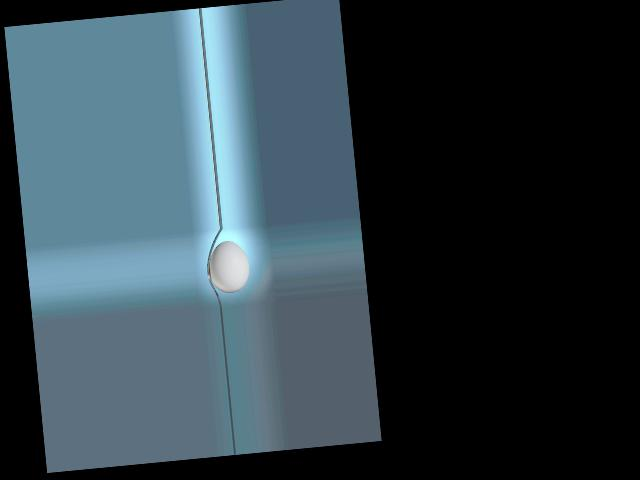egg: (206, 239, 250, 294)
